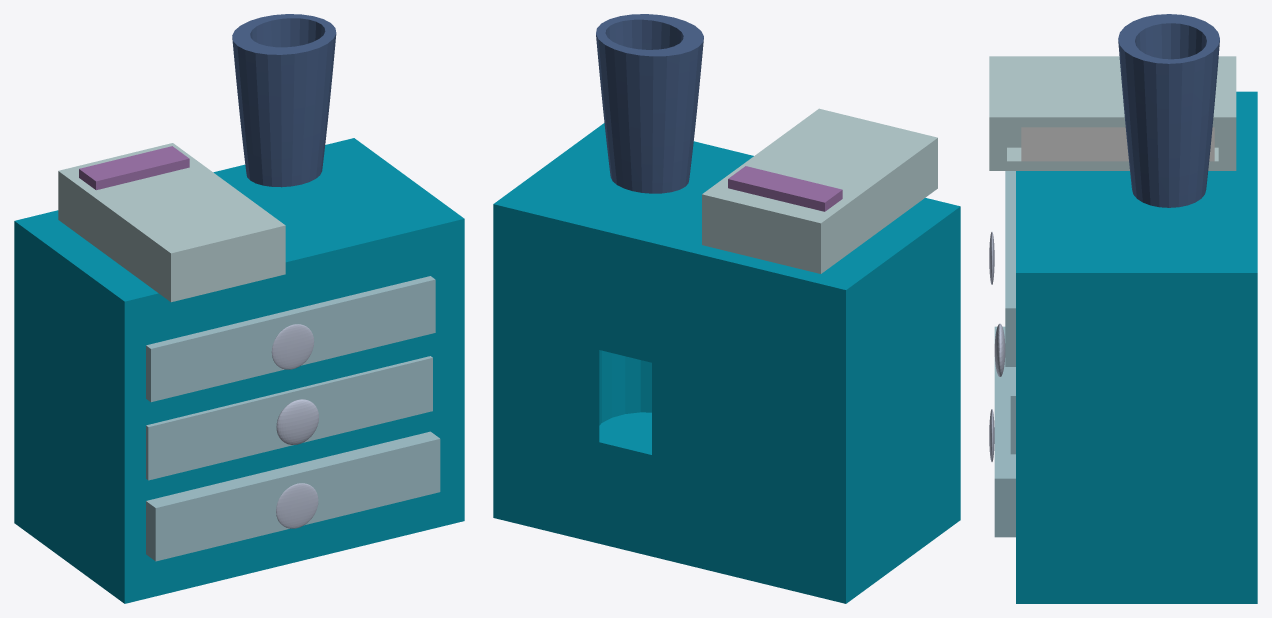
The model's file is Project-149.glb.
3 renders of one model, left to right at view 1: azimuth 30°, elevation 25°; view 2: azimuth 150°, elevation 25°; view 3: azimuth 270°, elevation 25°, orthographic. The views are drawn at different scales.
Parts seen in each view (by area): view 1: Mesh_Mesh_head_geo.001_lambert2SG.001; view 2: Mesh_Mesh_head_geo.001_lambert2SG.001; view 3: Mesh_Mesh_head_geo.001_lambert2SG.001.
Boxes of the visible parts, left/top/right/bottom form: Mesh_Mesh_head_geo.001_lambert2SG.001: left=14, top=14, right=464, bottom=603; Mesh_Mesh_head_geo.001_lambert2SG.001: left=493, top=14, right=960, bottom=603; Mesh_Mesh_head_geo.001_lambert2SG.001: left=989, top=14, right=1257, bottom=603.
Bounding box in the file's own units: 80 × 104 × 50.
